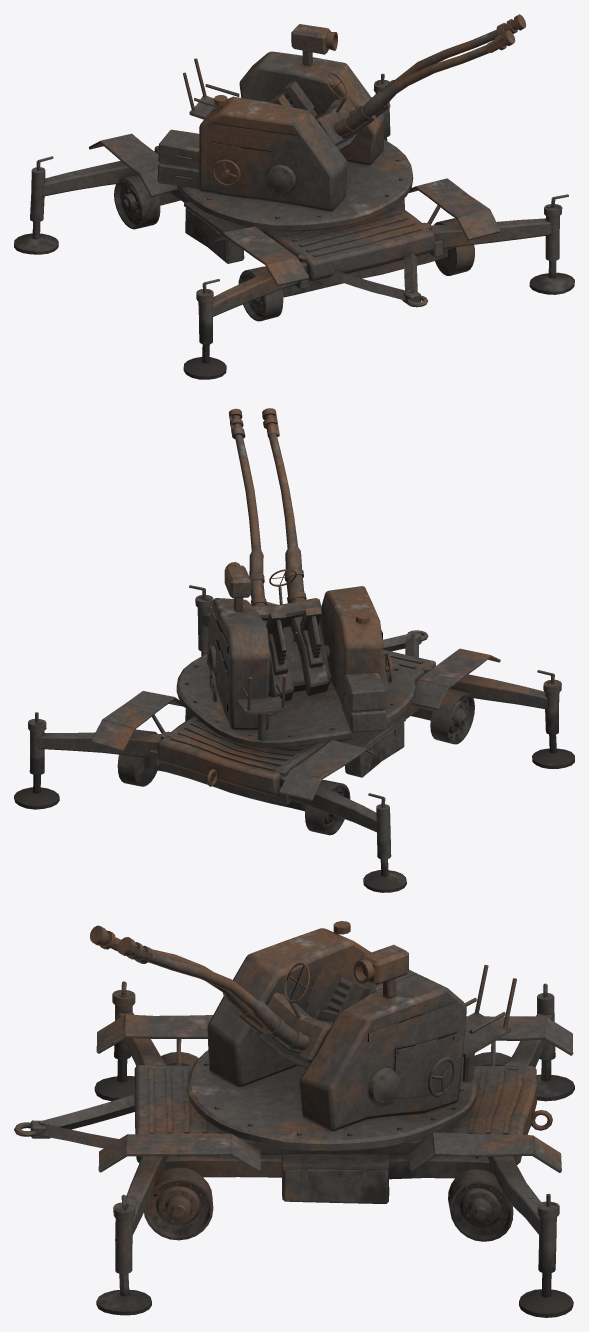
Rendered from Wreck_AAGun.fbx.
3 renders of one model, top to bottom at view 1: azimuth 30°, elevation 25°; view 2: azimuth 150°, elevation 25°; view 3: azimuth 270°, elevation 25°, orthographic. The views are drawn at different scales.
Parts seen in each view (by area): view 1: Wreck_AAGun_Mesh; view 2: Wreck_AAGun_Mesh; view 3: Wreck_AAGun_Mesh.
Boxes of the visible parts, x1,y1,x2,y2 form: Wreck_AAGun_Mesh: (14, 14, 574, 379); Wreck_AAGun_Mesh: (14, 408, 574, 892); Wreck_AAGun_Mesh: (14, 921, 574, 1317).
Size of the model in its own units: 3.23 by 2.22 by 3.23.
